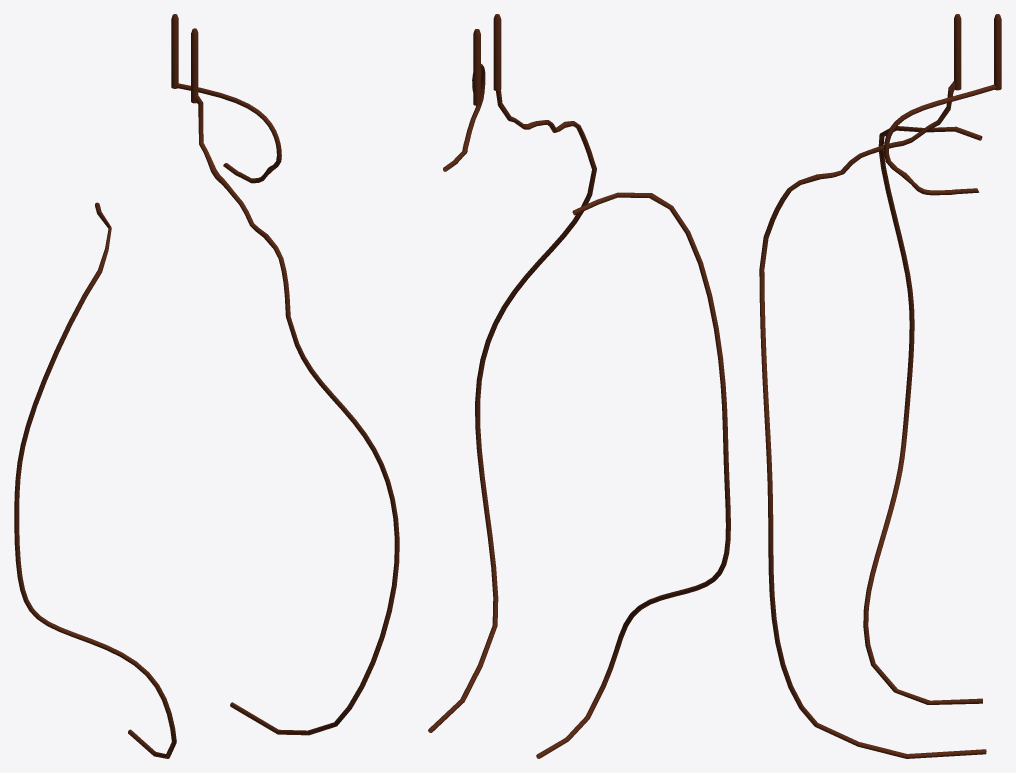
File: wires.fbx
3 renders of one model, left to right at view 1: azimuth 30°, elevation 25°; view 2: azimuth 150°, elevation 25°; view 3: azimuth 270°, elevation 25°, orthographic. The views are drawn at different scales.
Parts seen in each view (by area): view 1: connectors; view 2: connectors; view 3: connectors.
Part boxes in pixels (box(x1,y1,x2,y2)): connectors: box(14, 14, 399, 758); connectors: box(428, 14, 730, 758); connectors: box(759, 14, 1001, 758).
Bounding box in the file's own units: 24.83 × 52.82 × 16.17.
